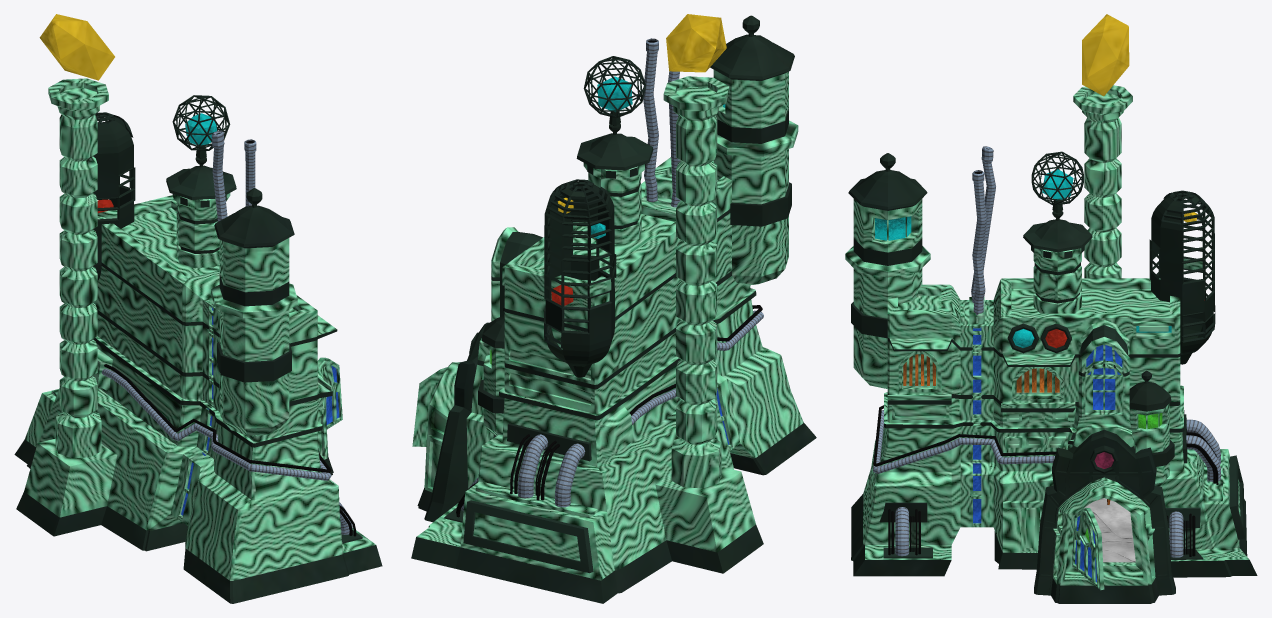
File: Labo+2.glb
The picture shows the model from 3 angles, left to right: view 1: azimuth 30°, elevation 25°; view 2: azimuth 150°, elevation 25°; view 3: azimuth 270°, elevation 25°; orthographic projection. The views are drawn at different scales.
Visible parts, largest first — view 1: Labo_2; view 2: Labo_2; view 3: Labo_2.
Part boxes in pixels (box(x1,y1,x2,y2)): Labo_2: box(14, 14, 382, 603); Labo_2: box(411, 14, 816, 603); Labo_2: box(845, 14, 1257, 603).
Size of the model in its own units: 2.14 by 3.3 by 2.62.
Materials: 21 (13 with a texture image).
